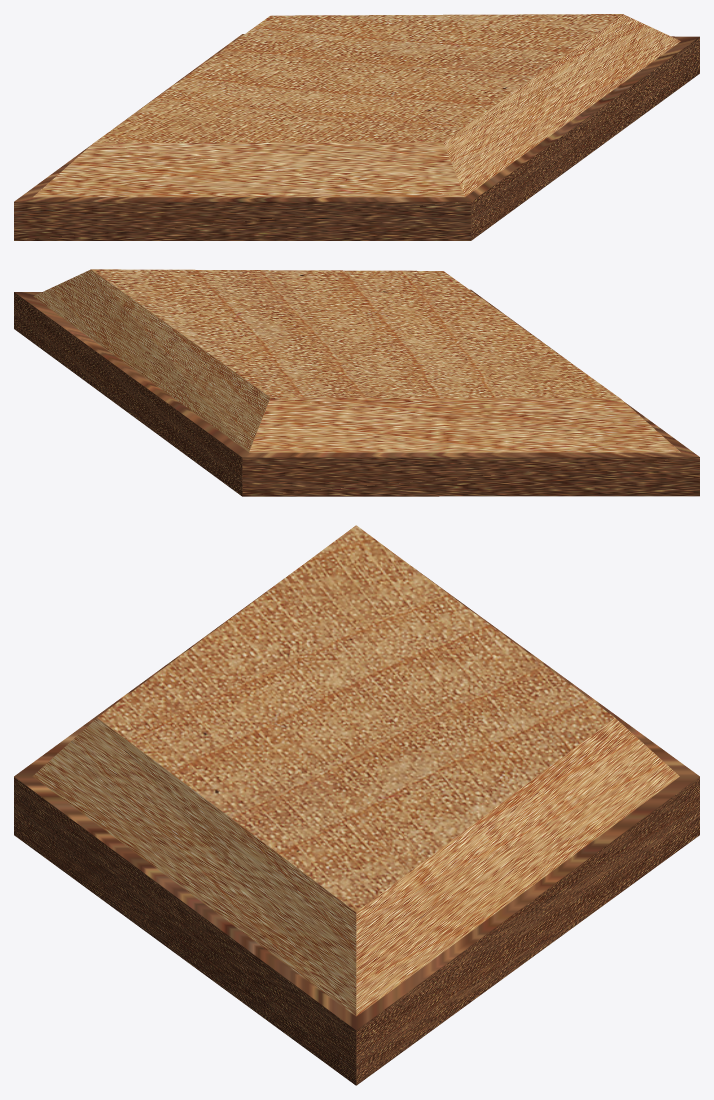
The model's file is Rhombus.FBX.
The picture shows the model from 3 angles, top to bottom: view 1: azimuth 30°, elevation 25°; view 2: azimuth 150°, elevation 25°; view 3: azimuth 270°, elevation 25°; orthographic projection. The views are drawn at different scales.
Parts seen in each view (by area): view 1: Rhombus; view 2: Rhombus; view 3: Rhombus.
Boxes of the visible parts, x1=… form: Rhombus: x1=14, y1=14, x2=699, y2=240; Rhombus: x1=14, y1=269, x2=699, y2=496; Rhombus: x1=14, y1=525, x2=699, y2=1085.
Size of the model in its own units: 18.32 by 10.59 by 2.
